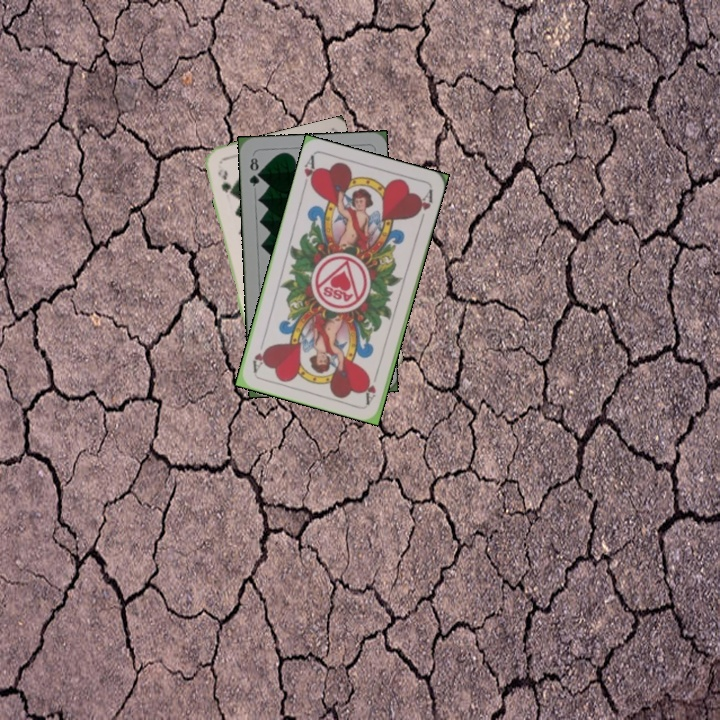G8: (245, 153, 263, 189)
G9: (214, 165, 234, 197)
HA: (299, 152, 320, 192), (362, 366, 381, 406)
